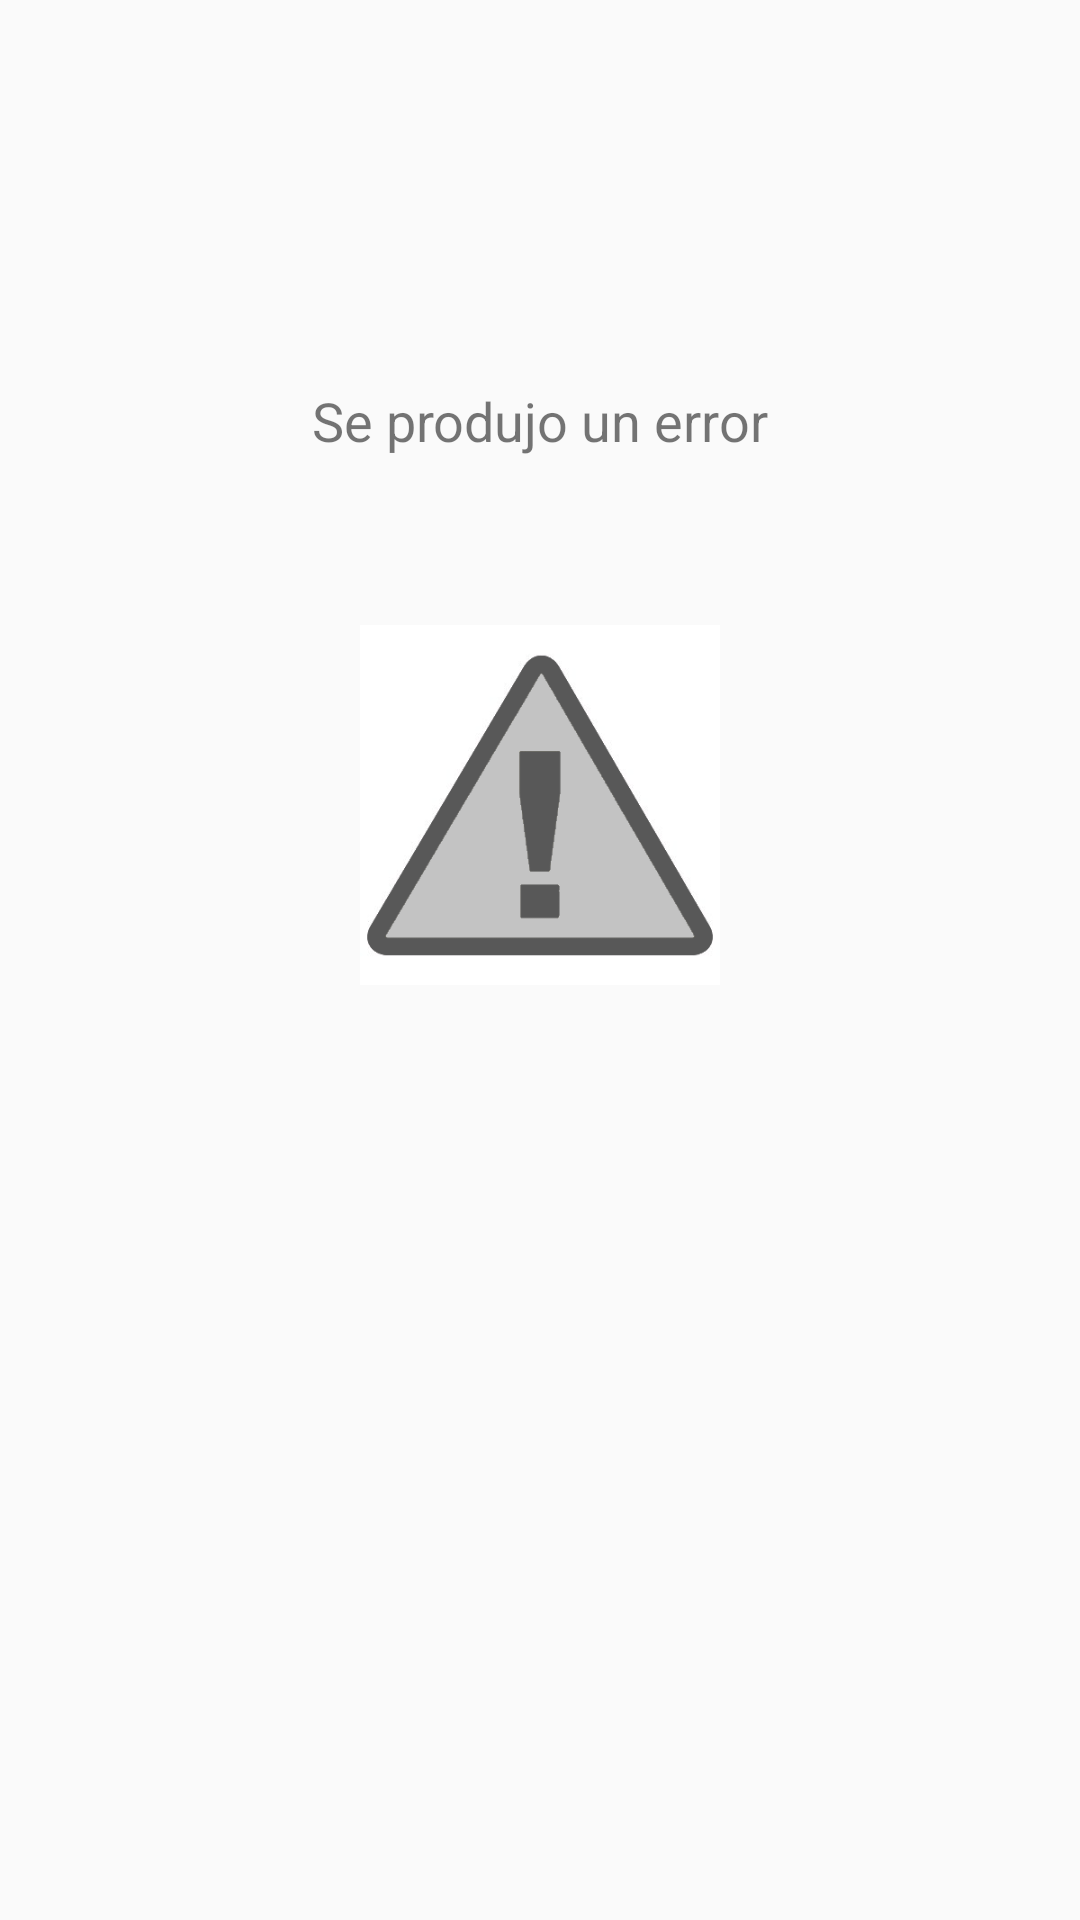

Named icons in this screenshot (1080×1920) and their centers, point (x, y):
error: point (540, 805)
